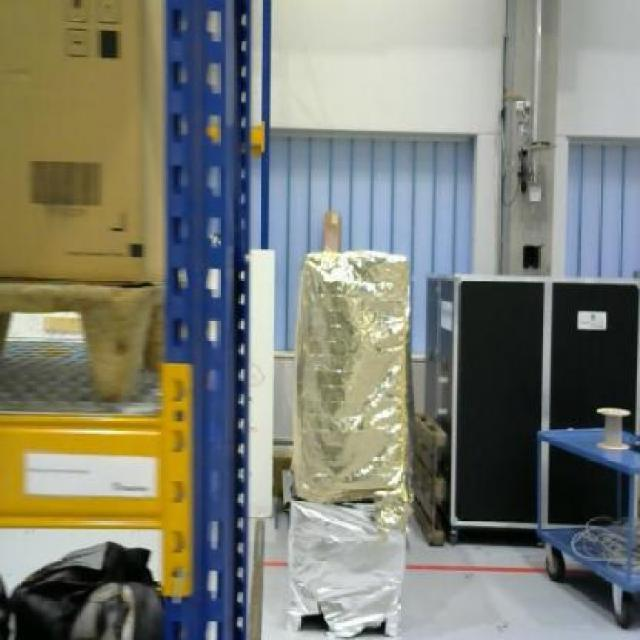box: (0, 0, 166, 285)
